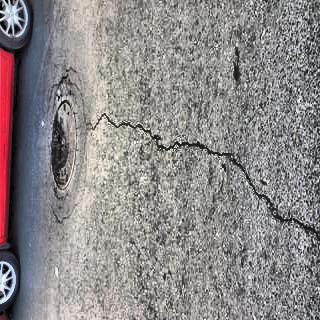crack: (80, 112, 175, 151), (252, 187, 292, 224), (173, 140, 234, 161), (230, 154, 256, 192), (287, 213, 320, 242)
